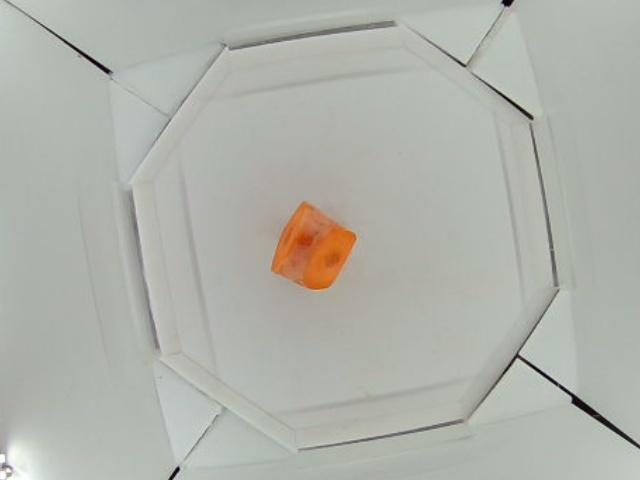Carrot: (273, 203, 356, 290)
